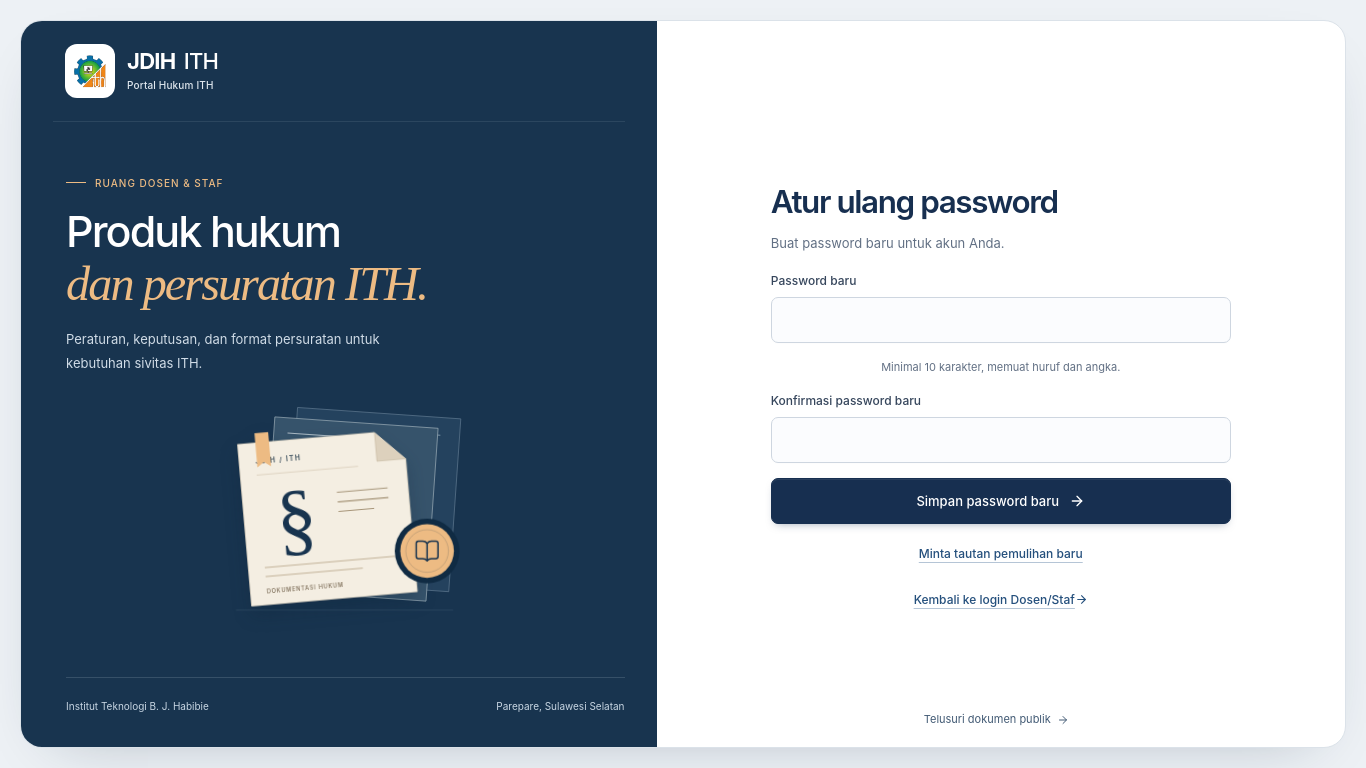
Scenario: pemulihan password Dosen/Staf › token dari fragmen URL dikirim lewat POST dan dihapus setelah berhasil
Type "PasswordBaru123" into the password field labelled "Password baru" at point(1001, 320), box [771,297,1231,343]
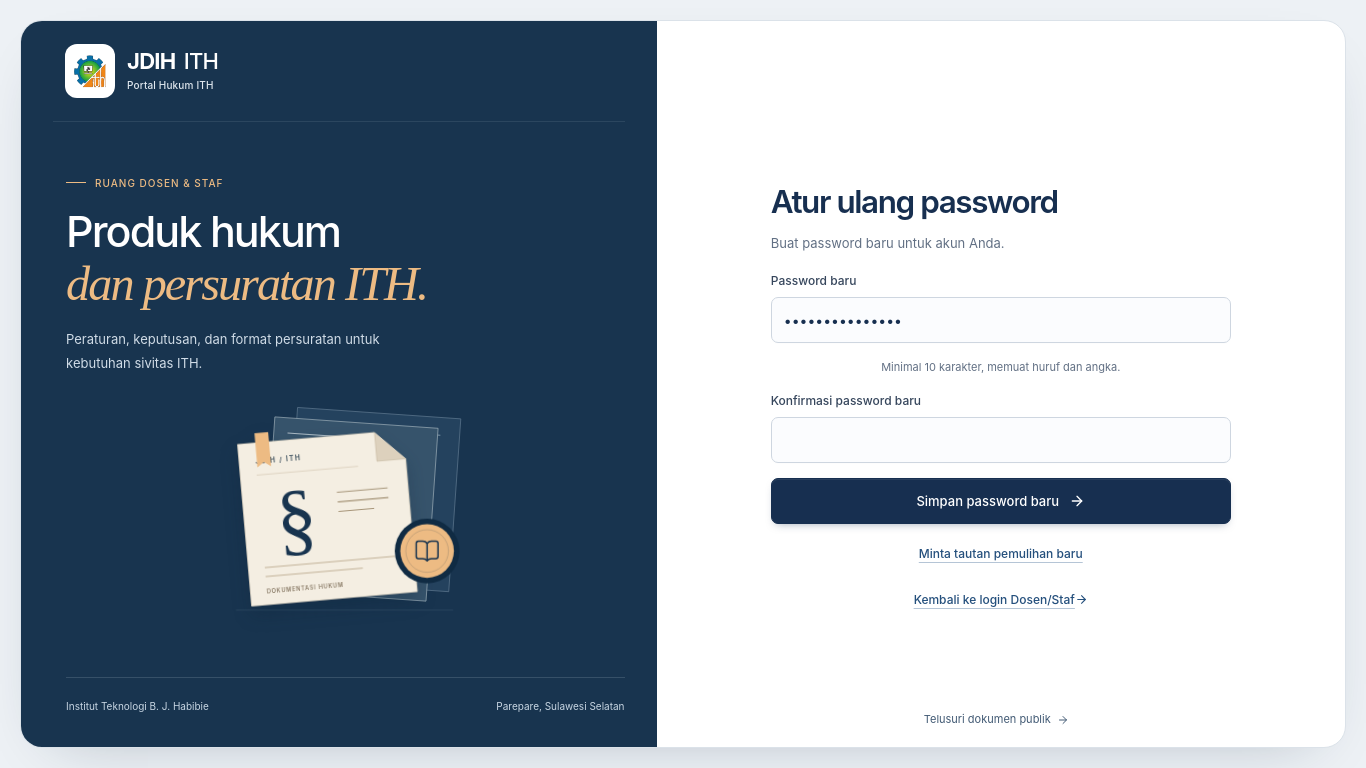
Type "PasswordBaru123" into the password field labelled "Konfirmasi password baru" at point(1001, 440), box [771,417,1231,463]
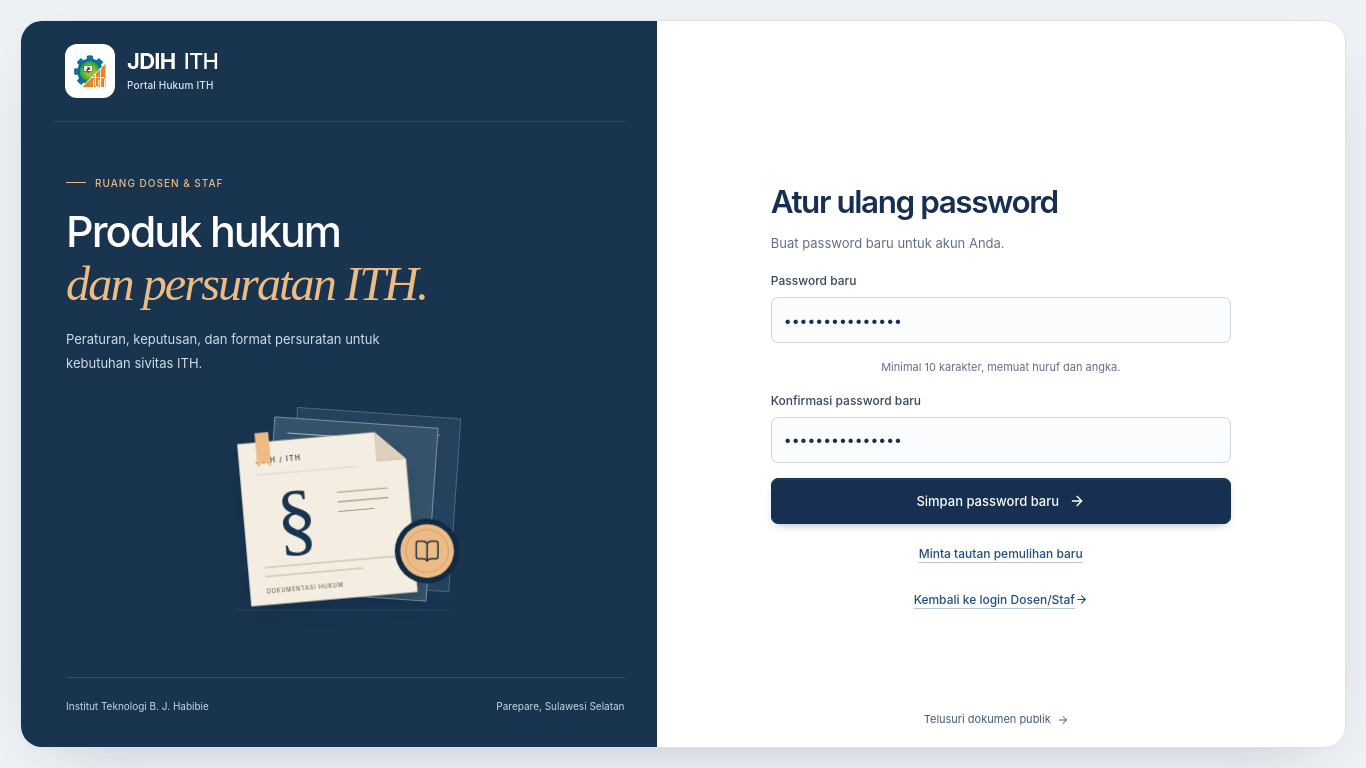
Click the button "Simpan password baru" at point(1001, 501), box [771,478,1231,524]
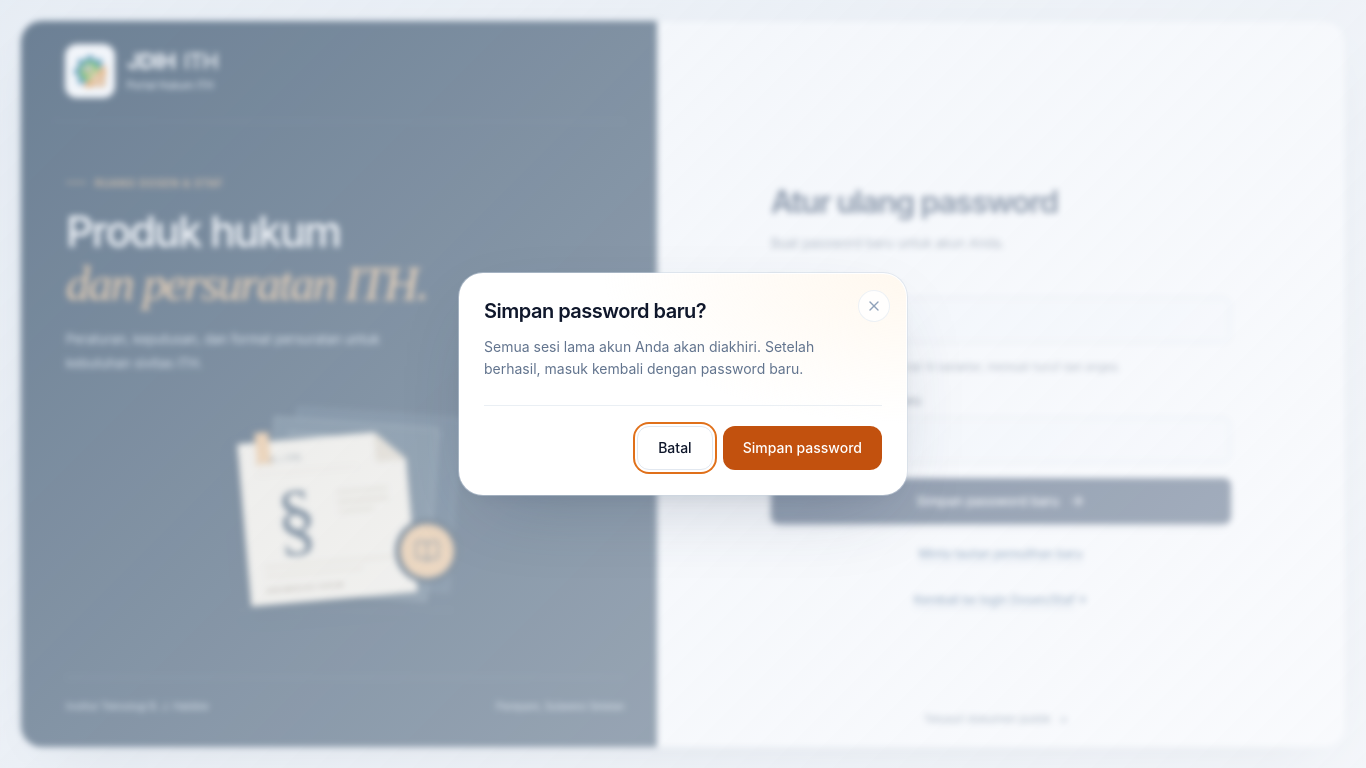
Expected: the dialog is shown, [459,273,907,495]
Click the button "Simpan password" at point(802, 448), box [723,426,882,470]
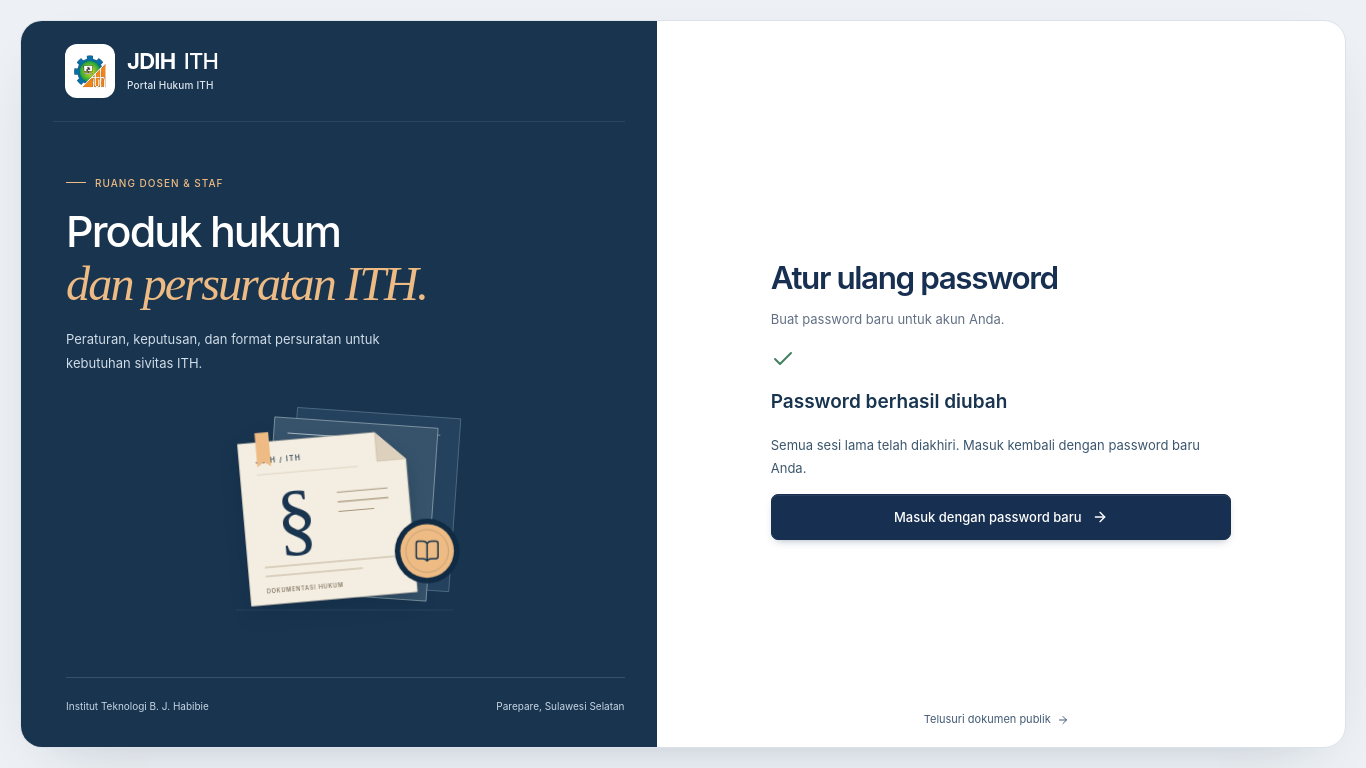
Expected: the heading "Password berhasil diubah" is shown, [771,390,1007,413]
